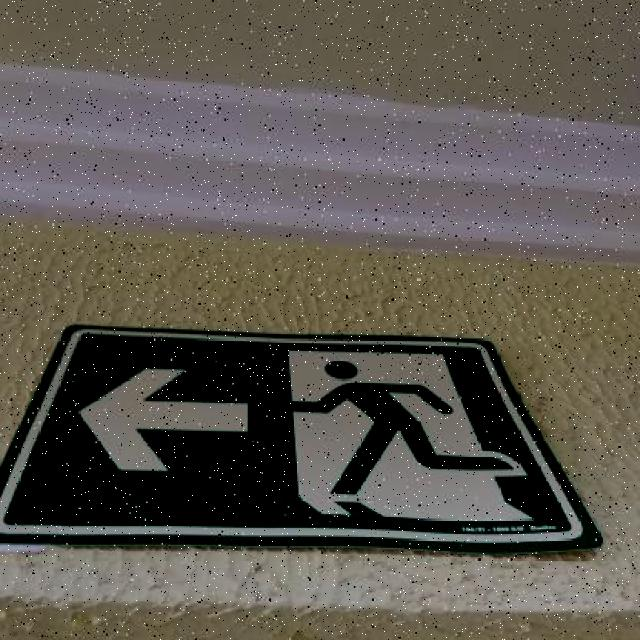emergency_exit: (1, 323, 603, 554)
